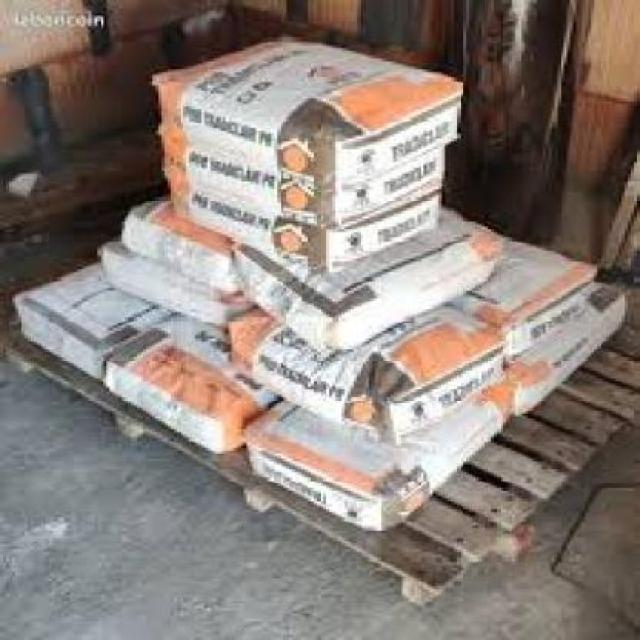gunny_bag: (378, 386, 507, 530), (228, 325, 369, 435), (509, 300, 620, 417), (233, 246, 348, 353), (95, 359, 224, 453), (335, 91, 463, 185), (99, 245, 233, 333), (333, 144, 448, 226), (324, 191, 439, 265), (125, 215, 237, 290), (504, 271, 601, 353), (16, 301, 100, 383)
